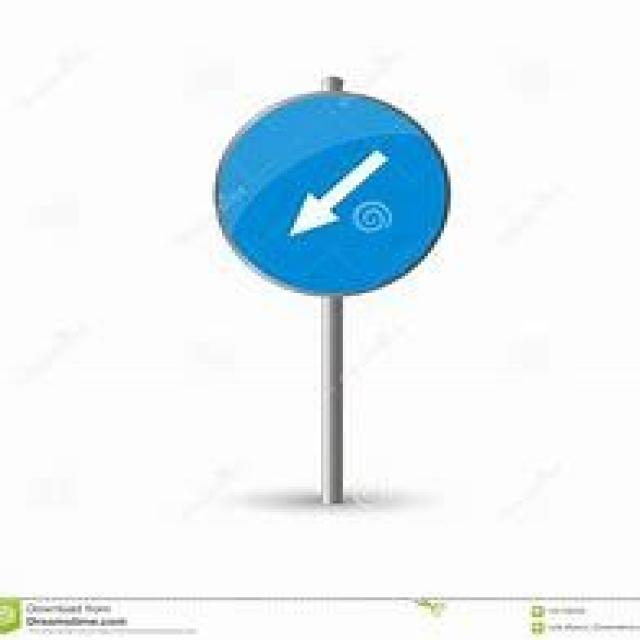compulsory_cycle_track: (202, 86, 467, 304)
